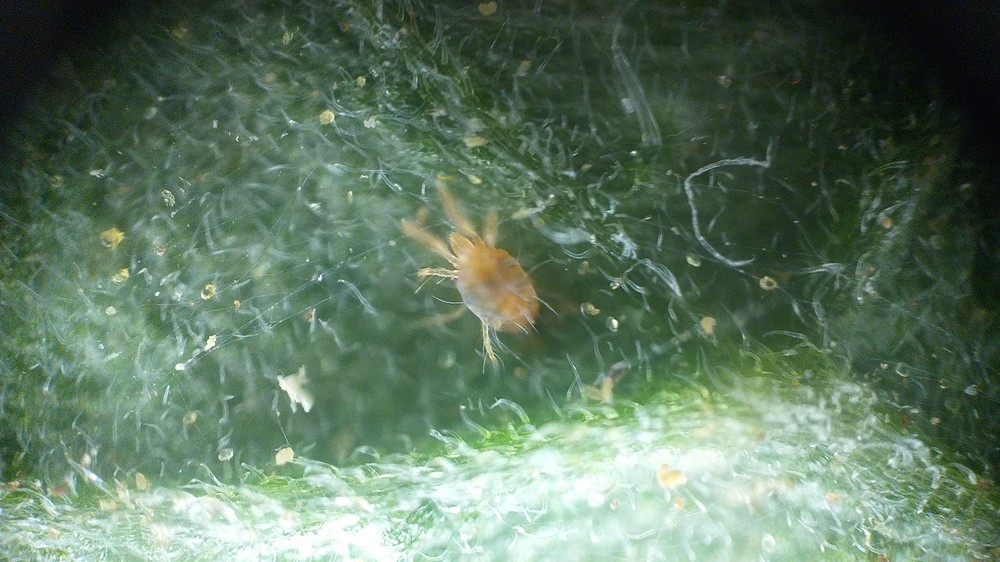Aracnido Rojo: (364, 174, 592, 402)
